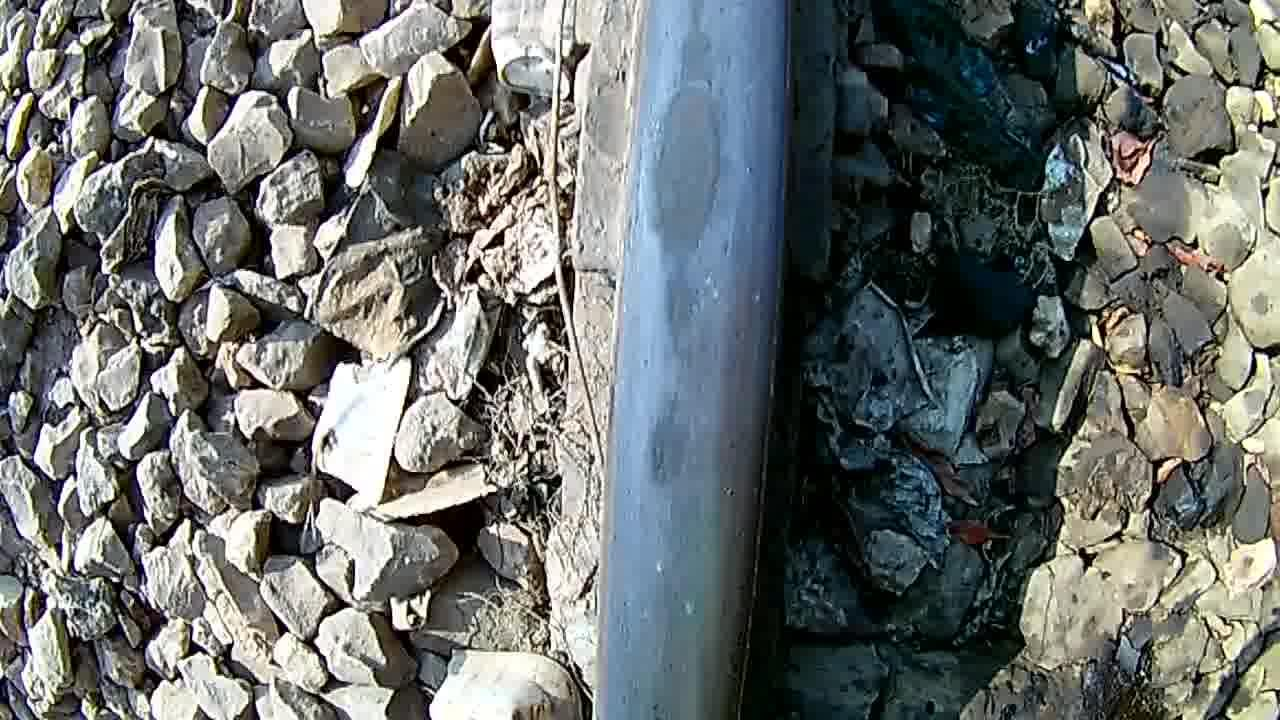bolt_missing: (613, 0, 787, 529)
